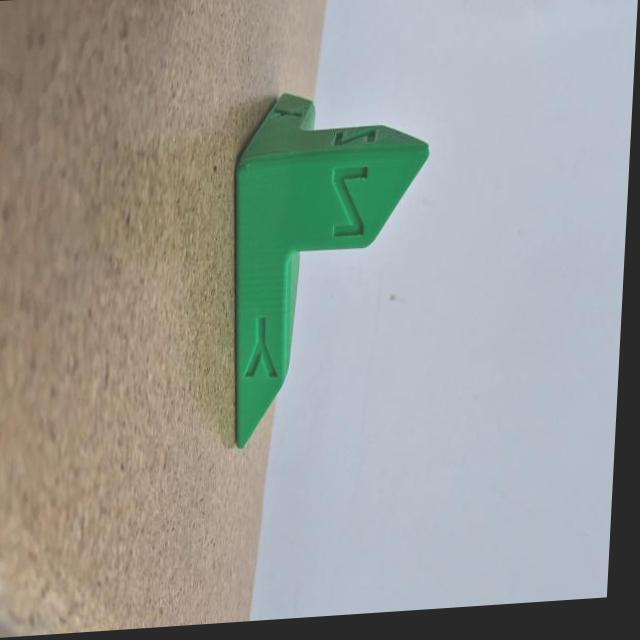eje: (213, 75, 439, 458)
